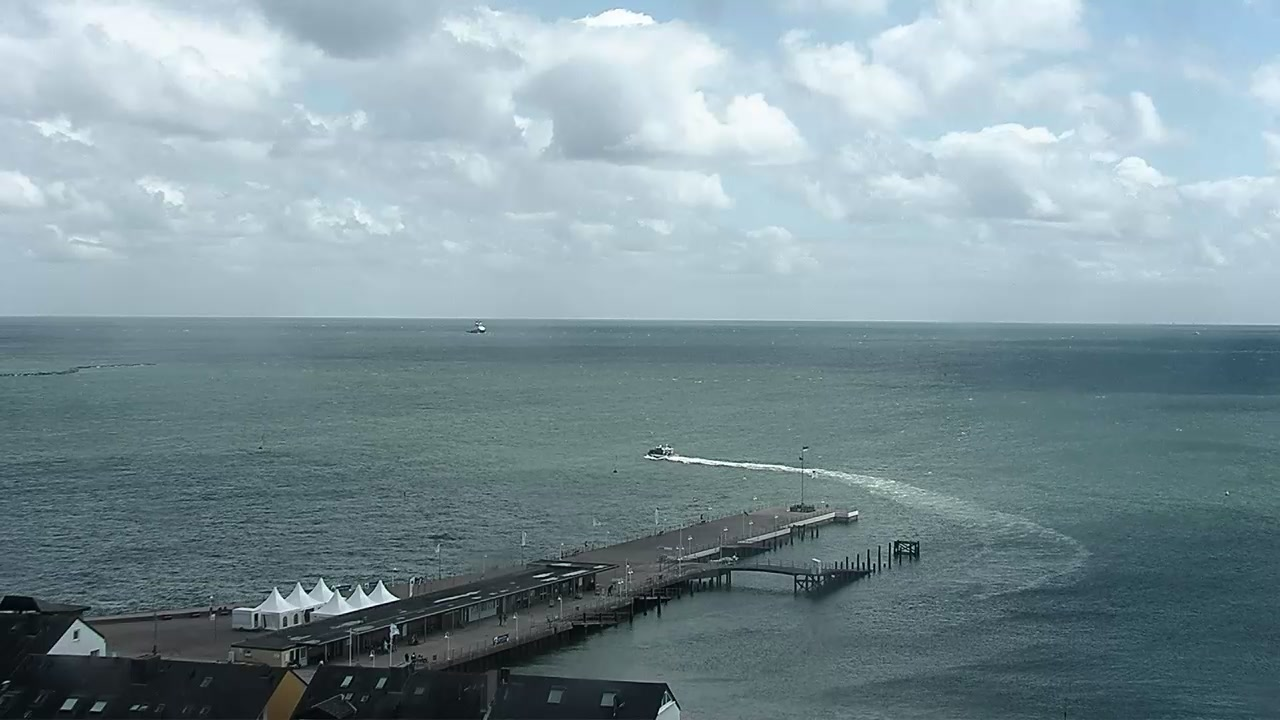human: (497, 611, 504, 625), (606, 585, 614, 597), (502, 613, 509, 626), (410, 651, 416, 661), (405, 652, 410, 661)
sea: (644, 443, 674, 461), (464, 319, 488, 335)
